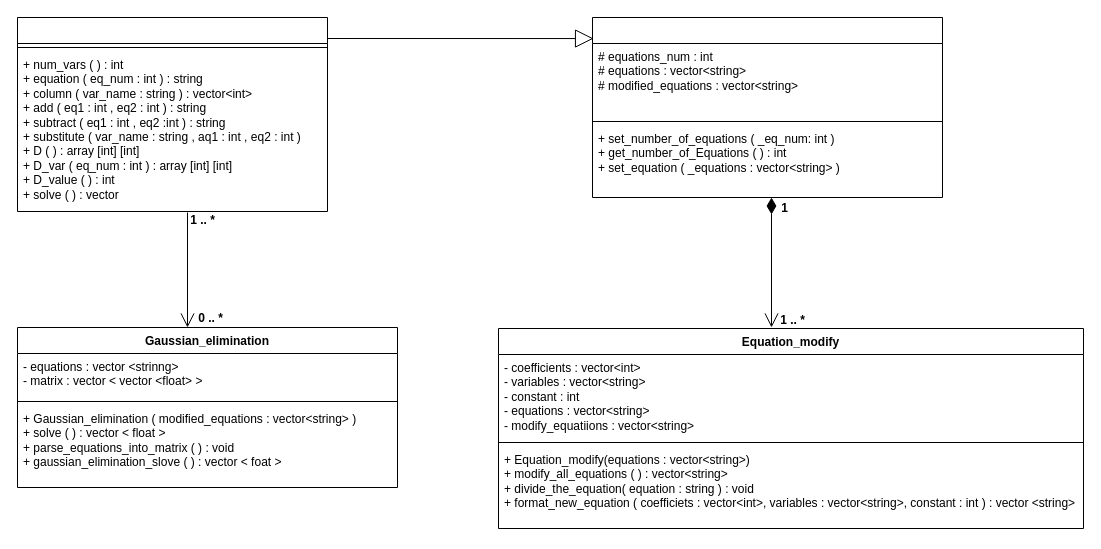
The diagram is 1101 pixels wide and 549 high, and some of its shapes have lost their labels. Here are the shapes that lost their labels. From the top down, the box of each, then its label:
(16, 16, 328, 212): Linear_equations_commands
(592, 16, 942, 198): Linear_equations
